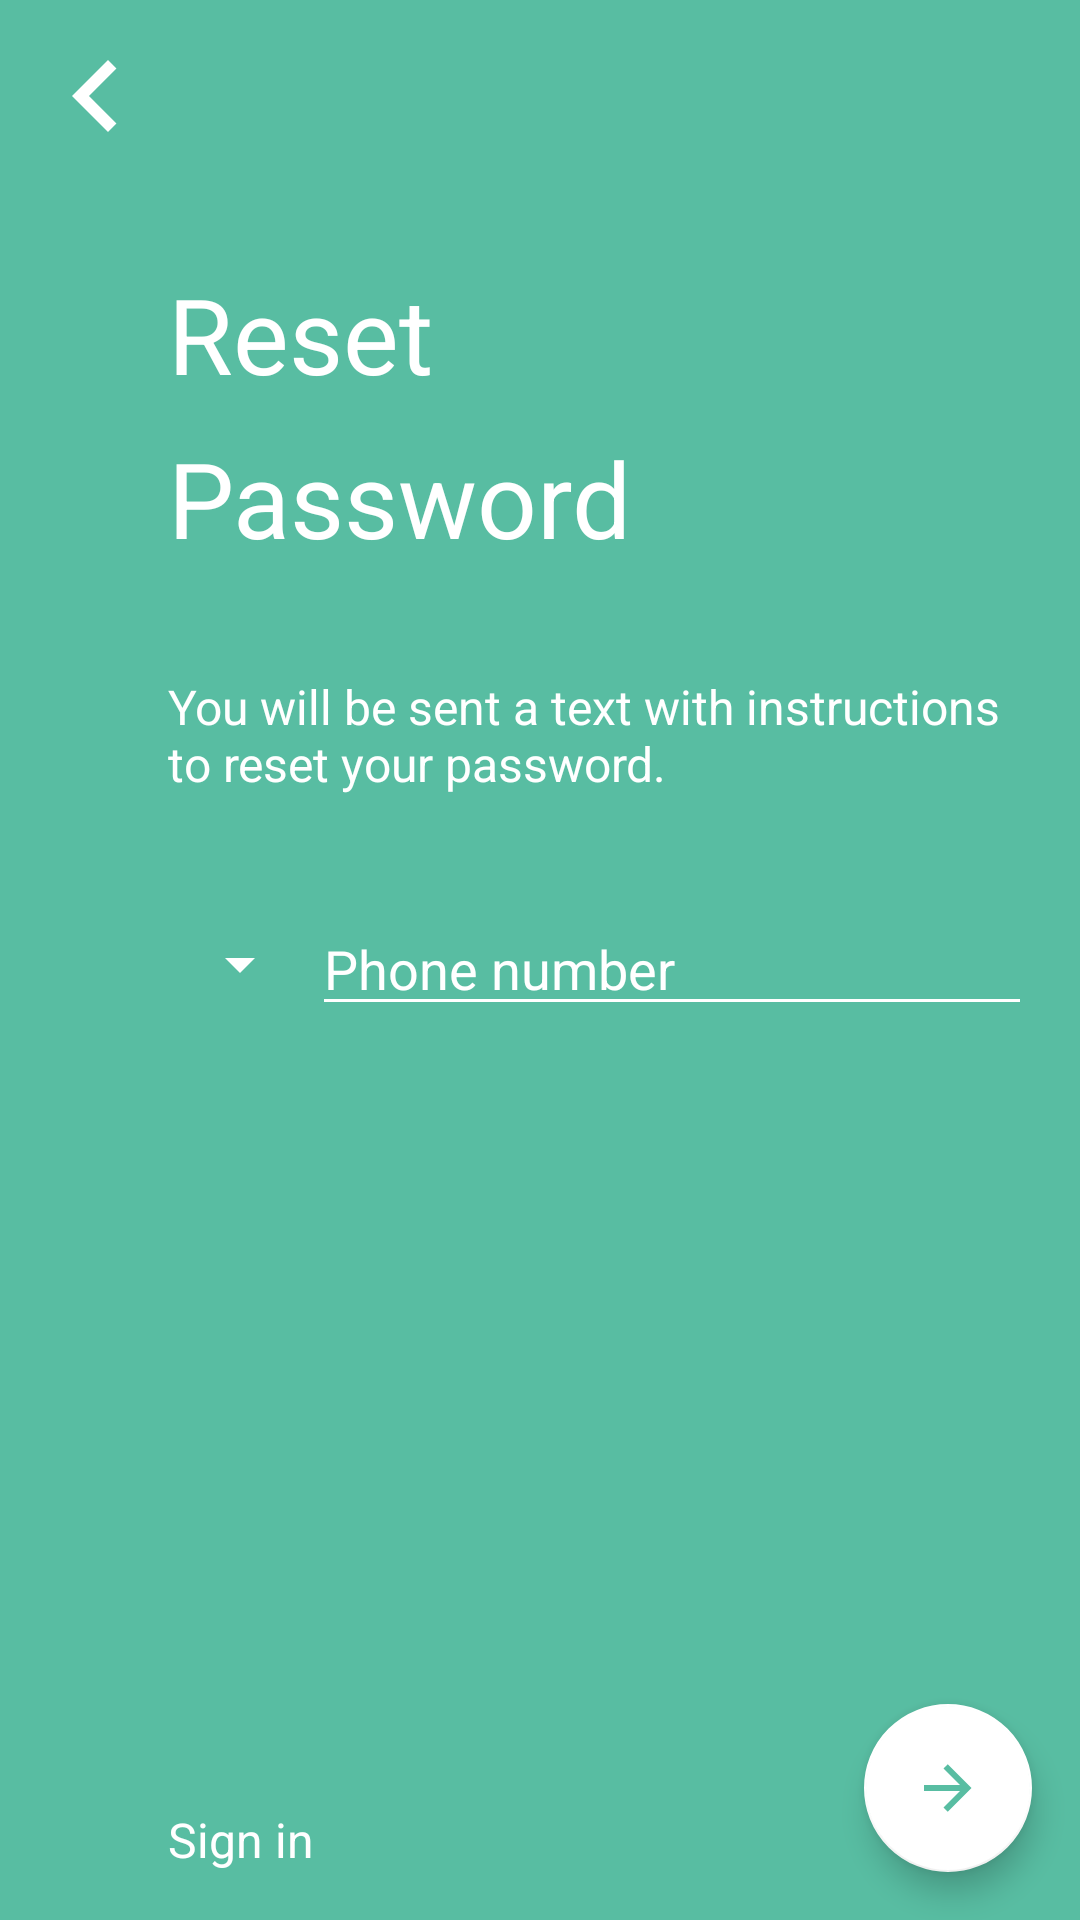

Icon click points for this 1080px x 1920px phone screenshot, format (x=x, y=y):
arrow left: (x=94, y=96)
arrow right: (x=948, y=1788)
